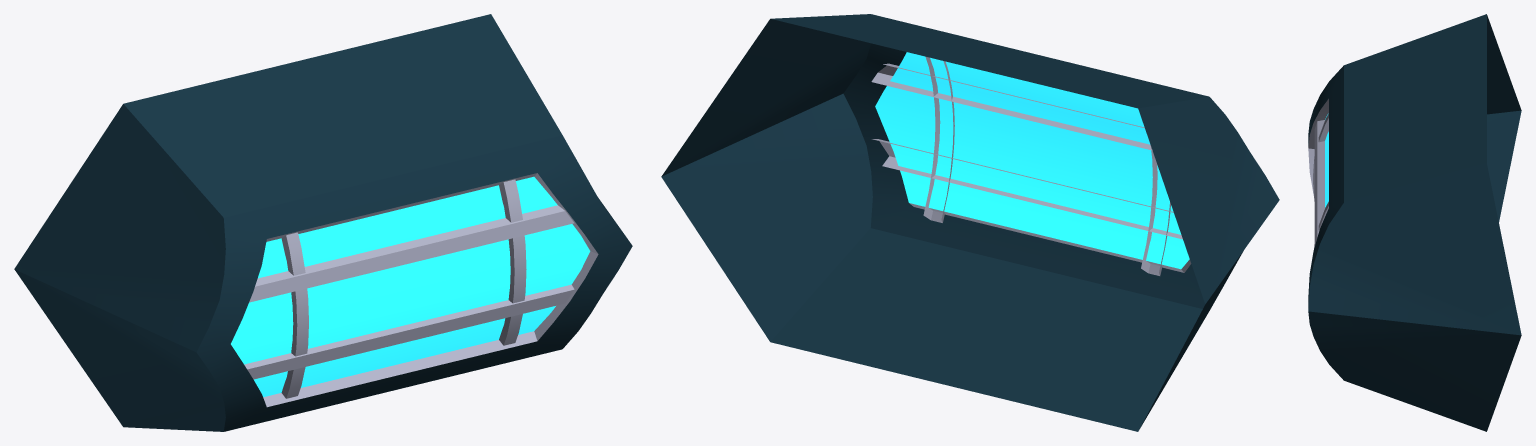
Rendered from Light_Wall_01_Blue.glb.
3 views of the same model, side by side, from view 1: azimuth 30°, elevation 25°; view 2: azimuth 150°, elevation 25°; view 3: azimuth 270°, elevation 25° (orthographic). The views are drawn at different scales.
Visible parts, largest first — view 1: Light_Wall_01_Blue.001; view 2: Light_Wall_01_Blue.001; view 3: Light_Wall_01_Blue.001.
Part boxes in pixels (x1,y1,x2,y2): Light_Wall_01_Blue.001: [14, 14, 632, 431]; Light_Wall_01_Blue.001: [661, 14, 1279, 431]; Light_Wall_01_Blue.001: [1308, 14, 1521, 431].
Bounding box in the file's own units: 0.4004 × 0.2275 × 0.1636.
